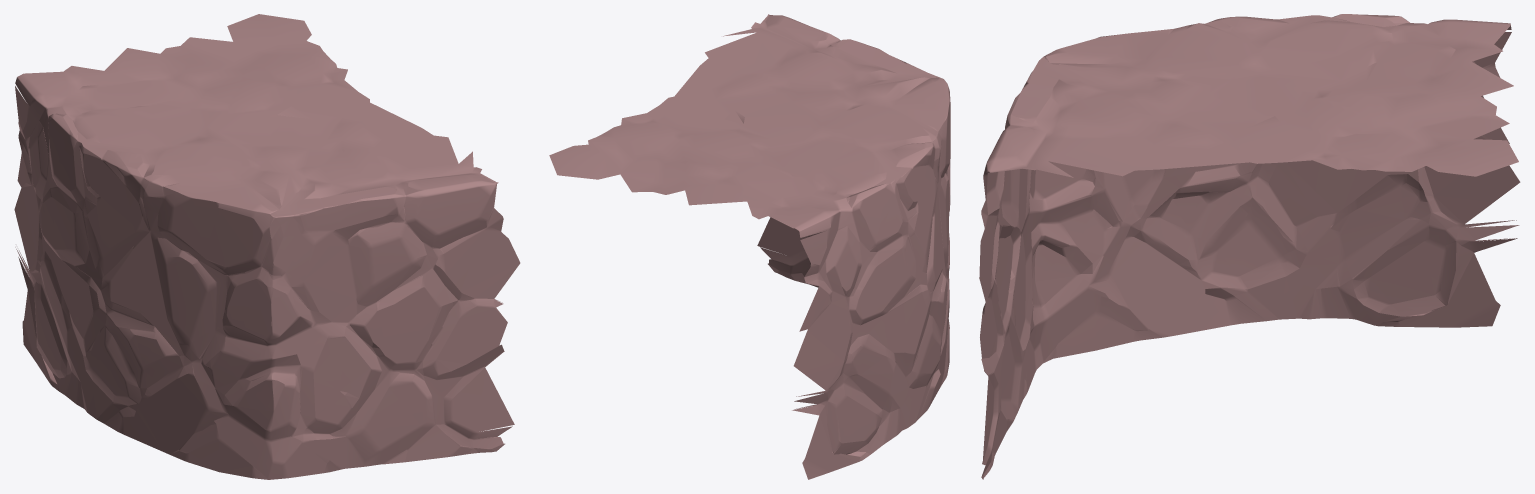
File: pleateauArea1.fbx_PolyShape__46__006LODs.fbx
3 renders of one model, left to right at view 1: azimuth 30°, elevation 25°; view 2: azimuth 150°, elevation 25°; view 3: azimuth 270°, elevation 25°, orthographic. The views are drawn at different scales.
Visible parts, largest first — view 1: PolyShape (46).006_LOD0; view 2: PolyShape (46).006_LOD0; view 3: PolyShape (46).006_LOD0.
Boxes of the visible parts, x1,y1,x2,y2 form: PolyShape (46).006_LOD0: (14,14,520,479); PolyShape (46).006_LOD0: (549,14,950,479); PolyShape (46).006_LOD0: (979,14,1520,479).
Size of what is drawn, in the model's own units: 4869 by 4179 by 6487.
